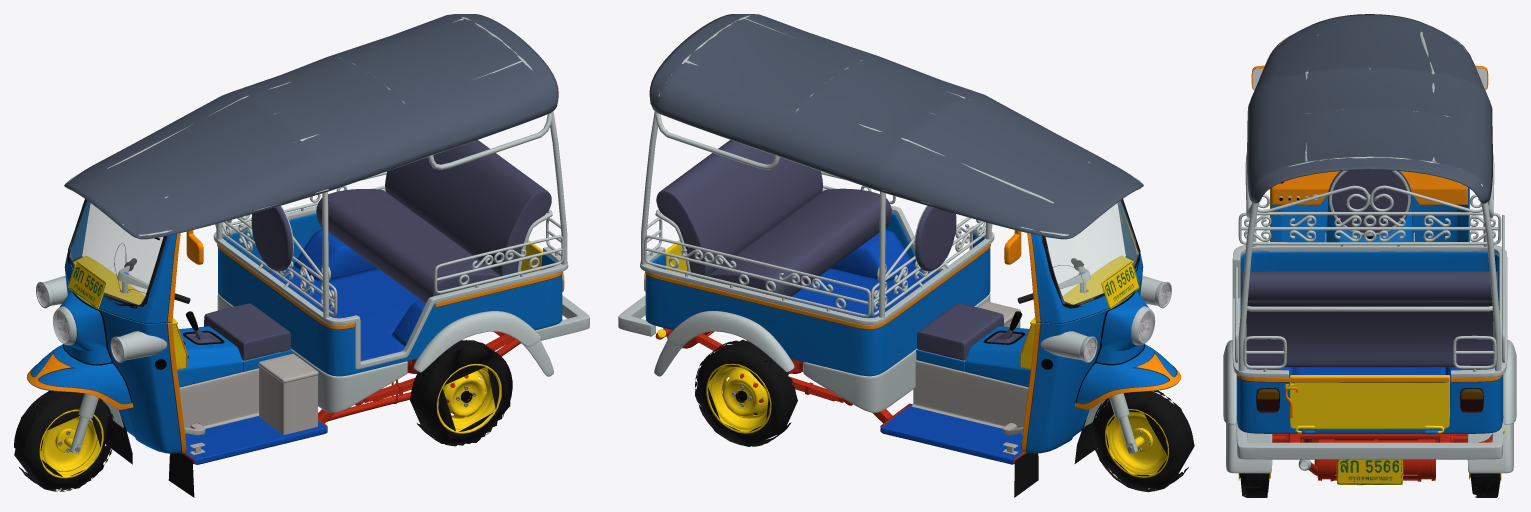
File: tuk-tuk.glb
3 views of the same model, side by side, from view 1: azimuth 30°, elevation 25°; view 2: azimuth 150°, elevation 25°; view 3: azimuth 270°, elevation 25° (orthographic). The views are drawn at different scales.
Bounding box in the file's own units: 3.03 × 1.95 × 1.37.
Materials: 21 (4 with a texture image).
